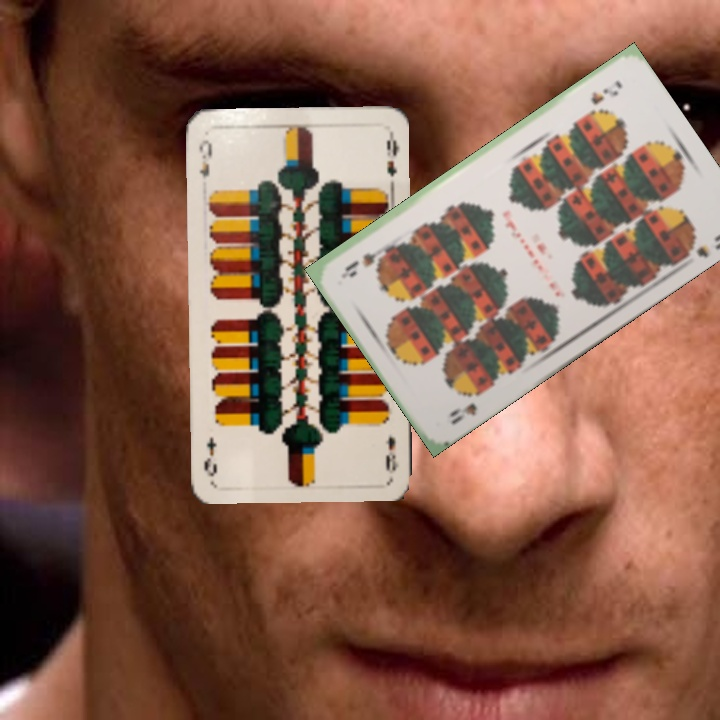E9: (195, 136, 214, 180), (382, 432, 401, 473)
S9: (445, 385, 489, 428), (587, 76, 625, 108)
